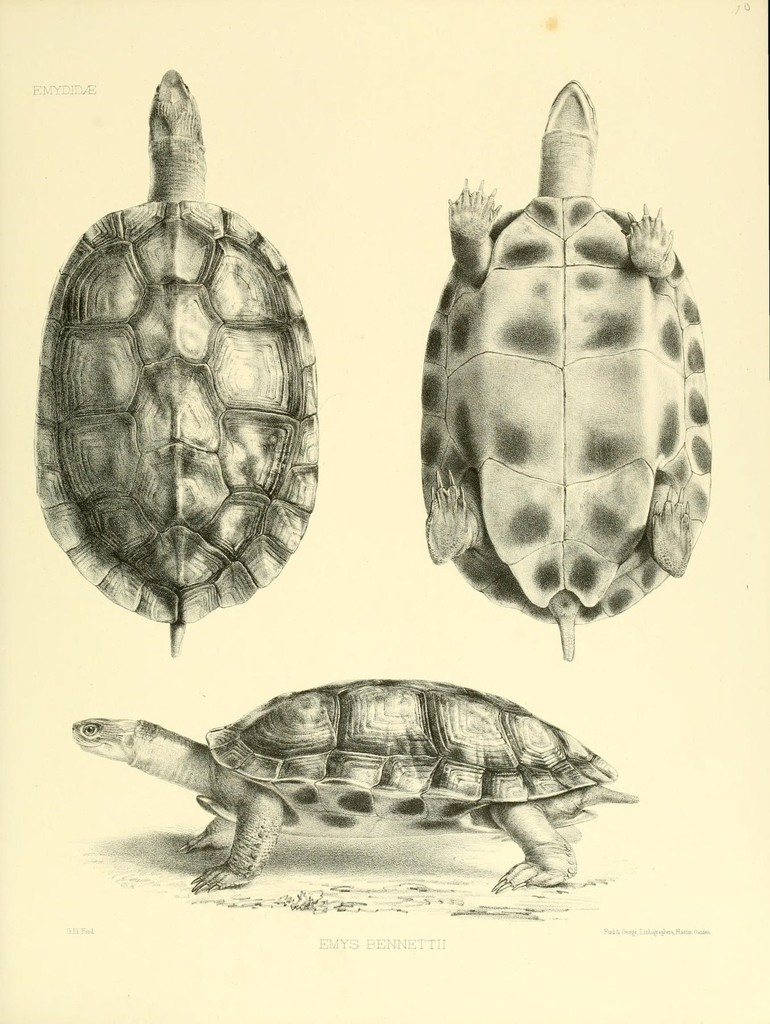Sea turtles: (419, 72, 716, 659), (30, 63, 318, 658), (60, 668, 641, 903)
